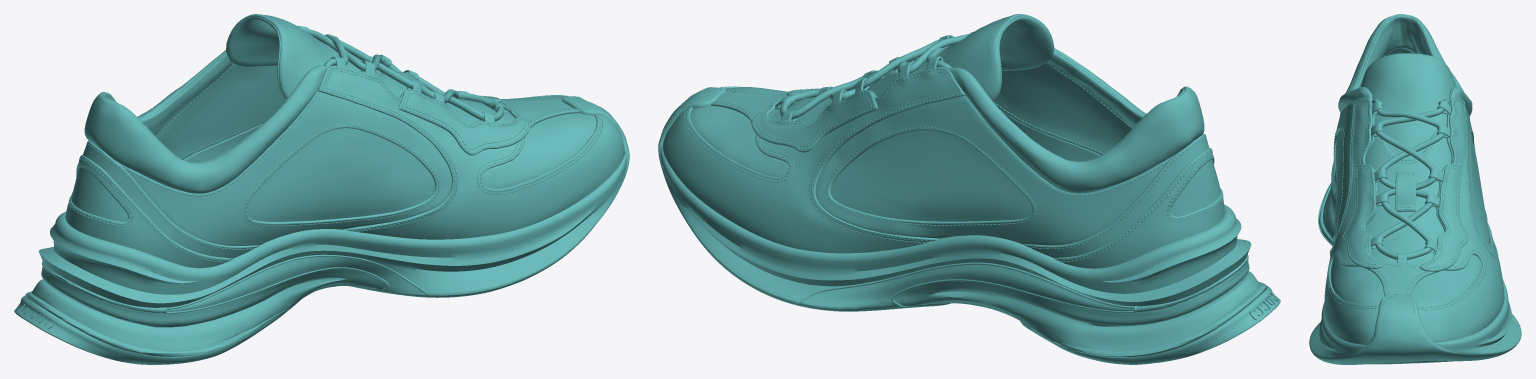
The model's file is left.glb.
The picture shows the model from 3 angles, left to right: view 1: azimuth 30°, elevation 25°; view 2: azimuth 150°, elevation 25°; view 3: azimuth 270°, elevation 25°; orthographic projection. The views are drawn at different scales.
Visible parts, largest first — view 1: id_Punta; view 2: id_Punta; view 3: id_Punta.
Boxes of the visible parts, box(x1,y1,x2,y2) form: id_Punta: box(14, 14, 629, 364); id_Punta: box(658, 14, 1280, 364); id_Punta: box(1309, 14, 1521, 364).
Size of the model in its own units: 2.13 by 0.9499 by 0.8058.
